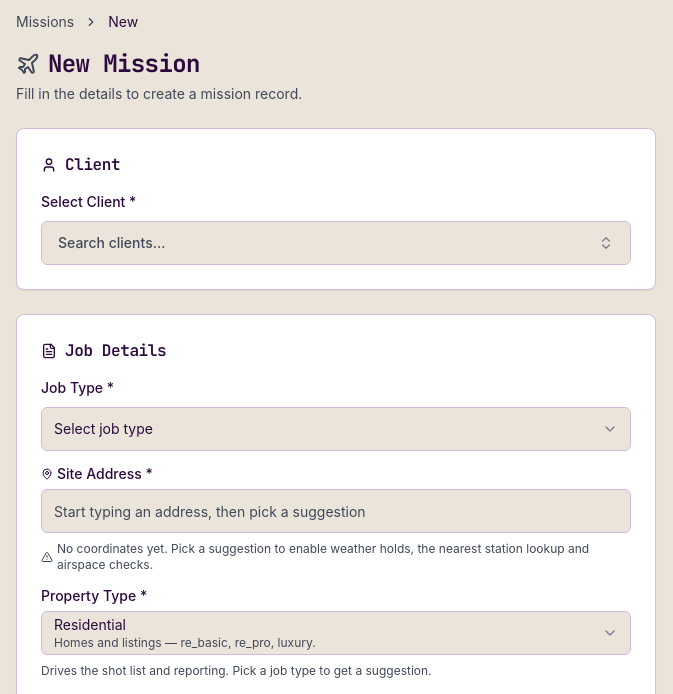
Test: JobIntake — slice 5 fields › maps a wildlife preset to wildlife_census
Press Enter in the dropdown labelled "Select job type", box 41,407 -> 631,451
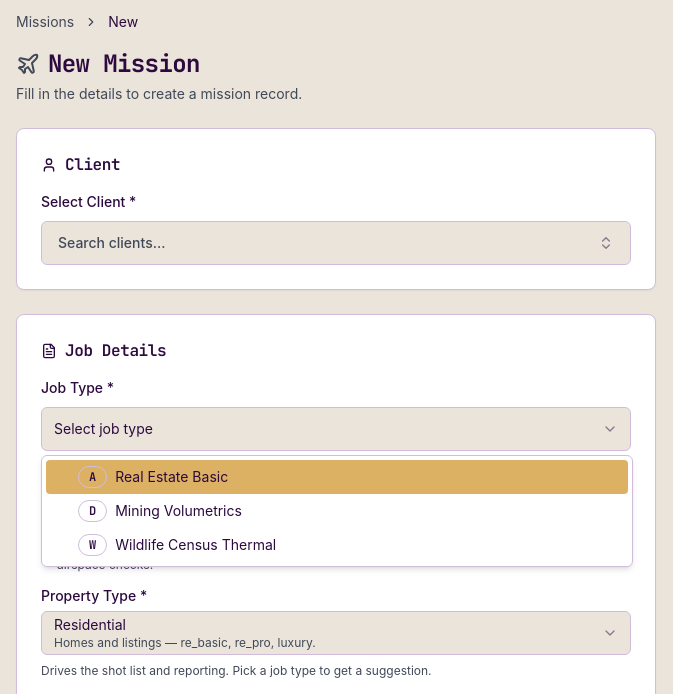
Click the option "W Wildlife Census Thermal" at (177, 545), box 78,534 -> 276,556
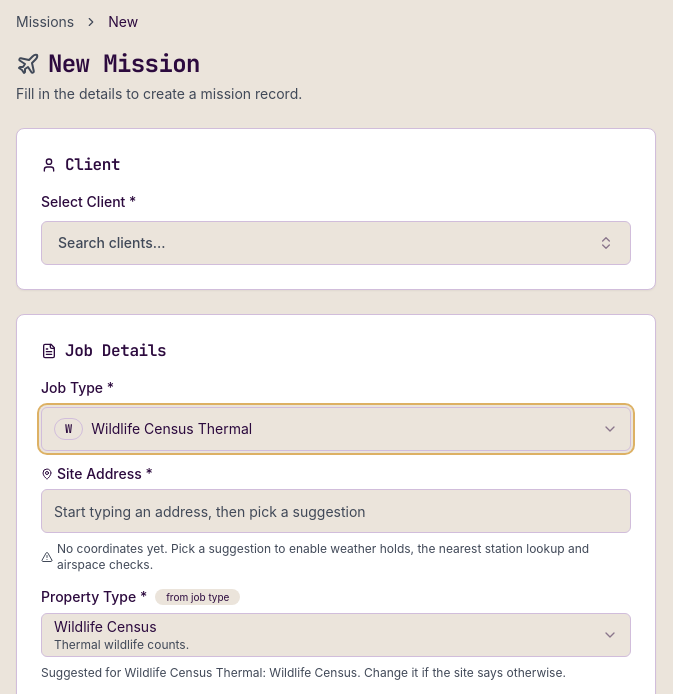
Check: the text "Wildlife Census" is shown, box 54,618 -> 156,635
